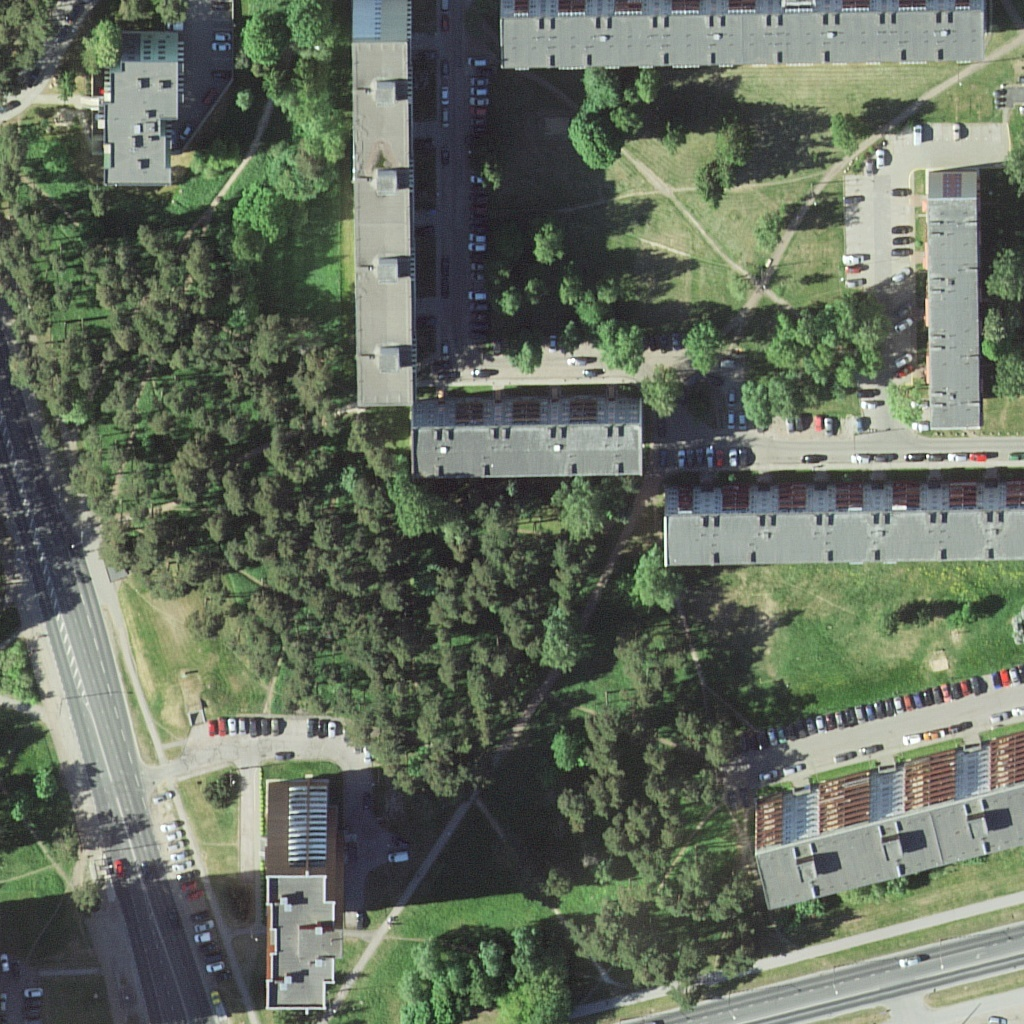building: (748, 727, 1024, 912), (498, 1, 990, 76), (660, 473, 1024, 571), (347, 1, 417, 409), (415, 391, 647, 488), (261, 784, 342, 1012), (925, 171, 989, 431), (100, 39, 190, 197)
